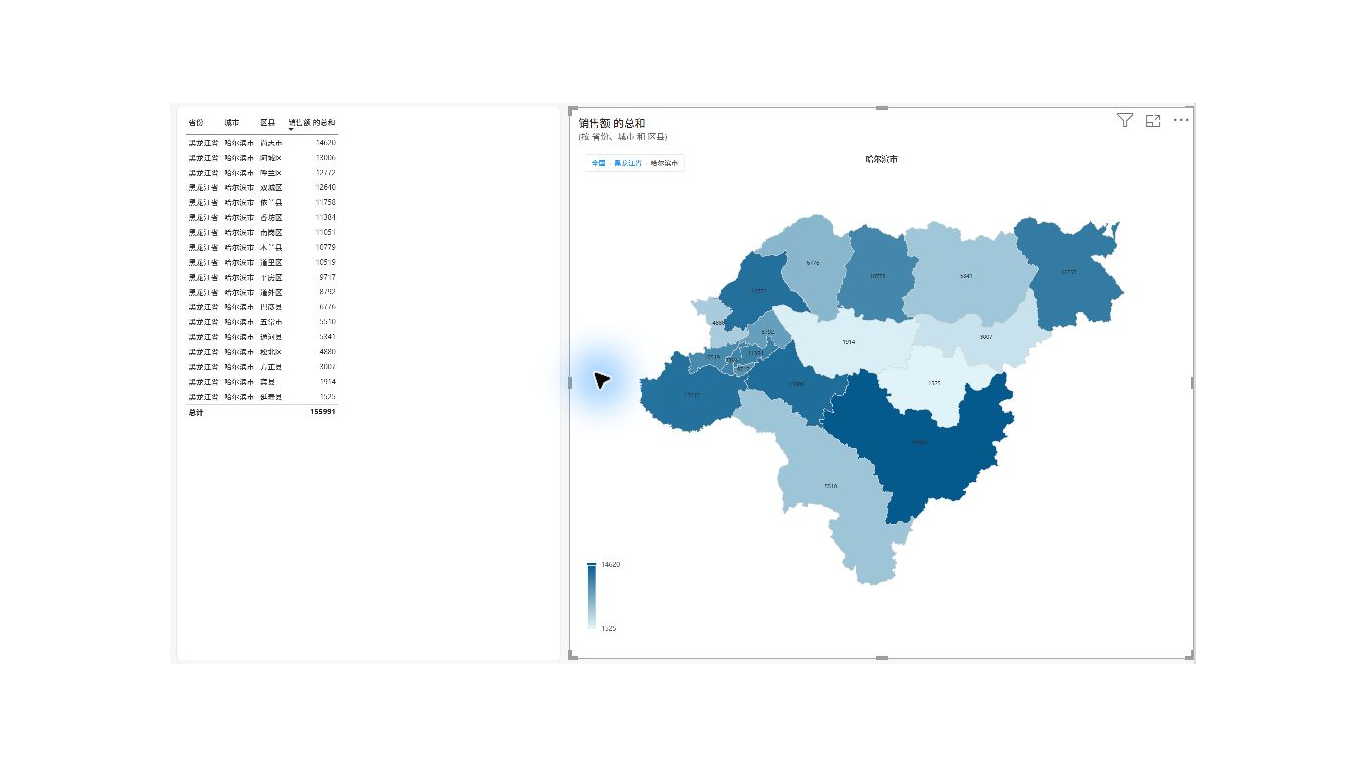

Layout of this report page (visuals, bound fields, positions):
{"tool":"powerbi","page":{"name":"第 3 页","canvas":[1920,1080],"ordinal":0},"visuals":[{"type":"chinaMapDrilldownV2F4A1C8D973E64B5AA27D1E6C80B42951","fields":{"province":["地图测试数据.省份"],"measure":["Sum(地图测试数据.销售额)"],"city":["地图测试数据.城市"],"district":["地图测试数据.区县"]},"box":[748,29.8,1172,1035.6],"z":1},{"type":"tableEx","fields":{"Values":["地图测试数据.省份","地图测试数据.城市","地图测试数据.区县","Sum(地图测试数据.销售额)"]},"box":[10.7,29.8,720.3,1037.8],"z":2}]}

Visuals, with their boxes in screenshot pixels (x1, y1, x2, y2), scaled from the page's 1920x1080 canvas onto the 1366x768 screenshot:
chinaMapDrilldownV2F4A1C8D973E64B5AA27D1E6C80B42951 - 地图测试数据.省份 x Sum(地图测试数据.销售额): rect(532, 21, 1365, 758)
tableEx - 地图测试数据.省份 x 地图测试数据.城市: rect(8, 21, 520, 759)
